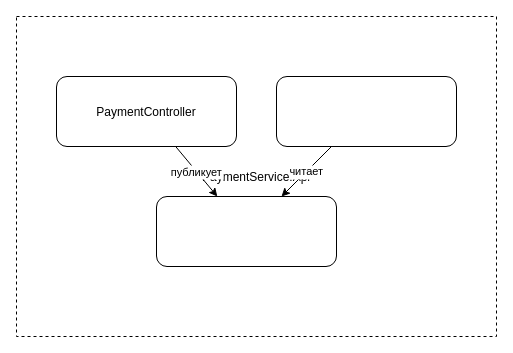
The diagram is 513 pixels wide and 353 high, and some of its shapes have lost their labels. Here are the shapes that lost their labels. From the top down, the centre of each, then its label:
point (366, 111): PaymentWorker
point (246, 231): PaymentQueue
